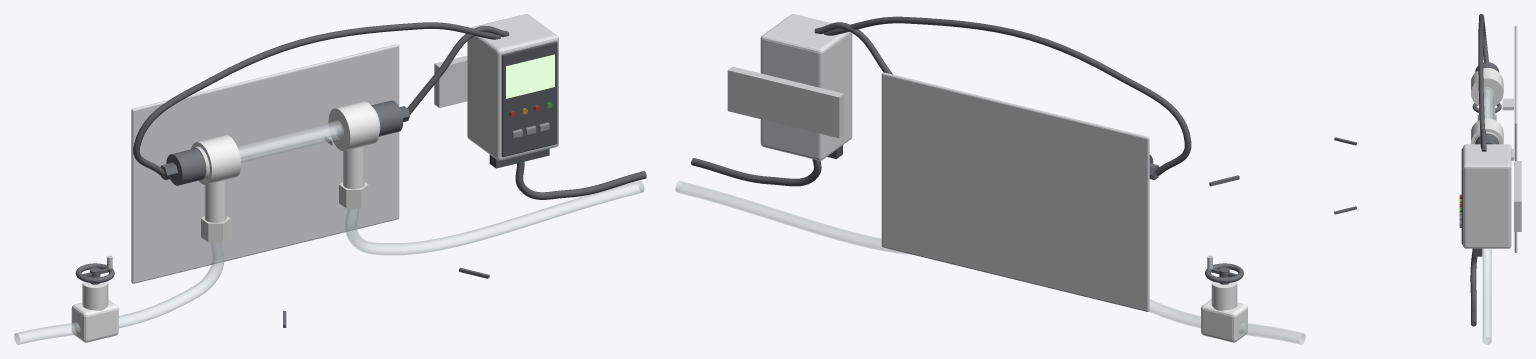
Rendered from flowmeter.glb.
The picture shows the model from 3 angles, left to right: view 1: azimuth 30°, elevation 25°; view 2: azimuth 150°, elevation 25°; view 3: azimuth 270°, elevation 25°; orthographic projection. The views are drawn at different scales.
Visible parts, largest first — view 1: BasePlate, Converter, PFABody, Pipe_Out, FrontPanel, Cable_A, Pipe_In, MeasureTube, LCD, ValveBody, DINRail, Cable_Out (+8 smaller); view 2: BasePlate, Converter, DINRail, Cable_A, Pipe_Out, ValveBody, Pipe_In, Cable_Out, ValveHandle, ValveBonnet, Cable_B; view 3: Converter, PFABody, Pipe_Out, Cable_A, BasePlate, DINRail, Cable_Out, MeasureTube, ValveHandle, FrontPanel, Transducer_B.
Part boxes in pixels (left/top/right/bottom): BasePlate: left=131, top=44, right=399, bottom=283; Converter: left=467, top=14, right=558, bottom=160; PFABody: left=191, top=101, right=379, bottom=222; Pipe_Out: left=345, top=181, right=644, bottom=255; FrontPanel: left=501, top=41, right=557, bottom=157; Cable_A: left=133, top=22, right=500, bottom=175; Pipe_In: left=14, top=242, right=224, bottom=344; MeasureTube: left=237, top=121, right=343, bottom=162; LCD: left=506, top=54, right=554, bottom=98; ValveBody: left=71, top=299, right=118, bottom=342; DINRail: left=434, top=55, right=467, bottom=107; Cable_Out: left=515, top=161, right=646, bottom=199; BasePlate: left=881, top=72, right=1149, bottom=311; Converter: left=760, top=14, right=852, bottom=160; DINRail: left=727, top=66, right=844, bottom=138; Cable_A: left=824, top=16, right=1191, bottom=175; Pipe_Out: left=675, top=181, right=910, bottom=254; ValveBody: left=1201, top=299, right=1247, bottom=342; Pipe_In: left=1149, top=299, right=1305, bottom=344; Cable_Out: left=691, top=158, right=821, bottom=186; ValveHandle: left=1205, top=175, right=1243, bottom=284; ValveBonnet: left=1211, top=281, right=1237, bottom=310; Cable_B: left=814, top=22, right=892, bottom=74; Converter: left=1463, top=144, right=1511, bottom=248; PFABody: left=1471, top=68, right=1503, bottom=144; Pipe_Out: left=1482, top=248, right=1491, bottom=344; Cable_A: left=1478, top=14, right=1488, bottom=148; BasePlate: left=1514, top=25, right=1517, bottom=252; DINRail: left=1514, top=161, right=1521, bottom=231; Cable_Out: left=1470, top=249, right=1477, bottom=326; MeasureTube: left=1483, top=87, right=1493, bottom=119; ValveHandle: left=1334, top=103, right=1501, bottom=214; FrontPanel: left=1461, top=148, right=1462, bottom=244; Transducer_B: left=1475, top=134, right=1498, bottom=144.
Bounding box in the file's own units: 0.56 × 0.214 × 0.1951.
